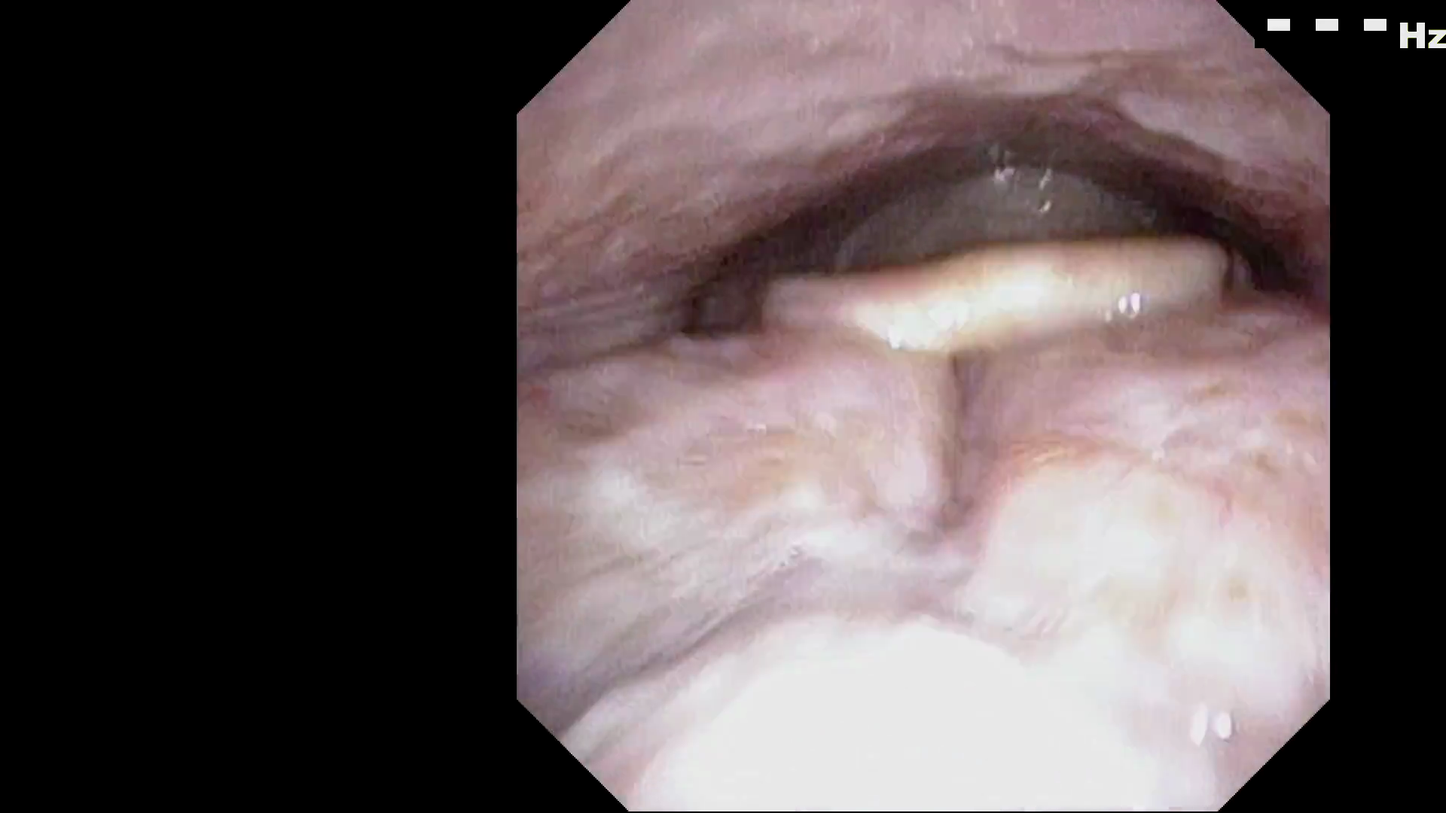epiglottis: (793, 213, 1200, 360)
